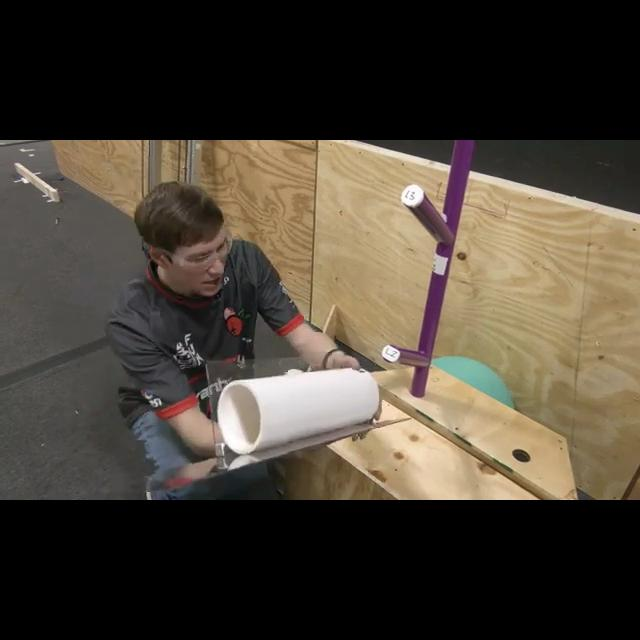CORAL: (215, 365, 381, 455)
